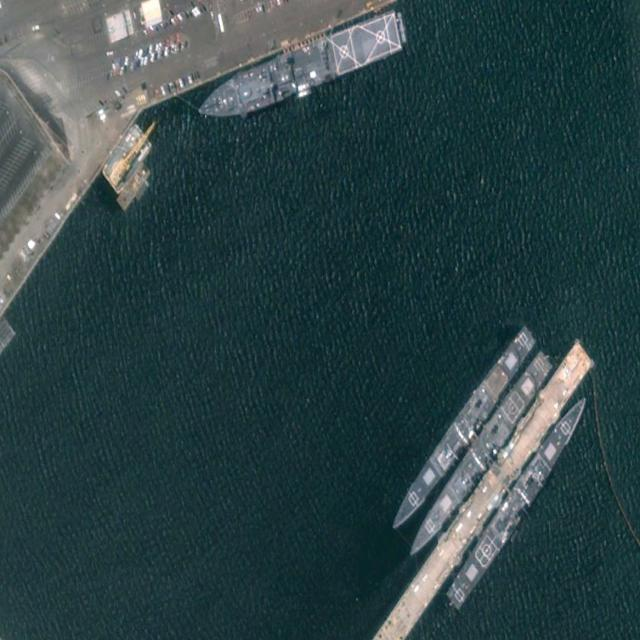Cruiser: (383, 320, 539, 539), (444, 387, 594, 614), (403, 347, 555, 566)
Landing: (194, 9, 403, 134)
